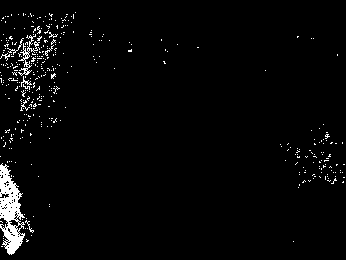person: (1, 165, 27, 255)
